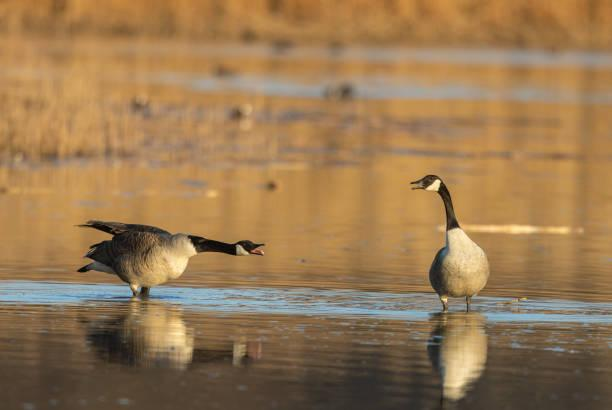Canadian-Goose: (78, 216, 268, 302), (410, 172, 492, 314)
